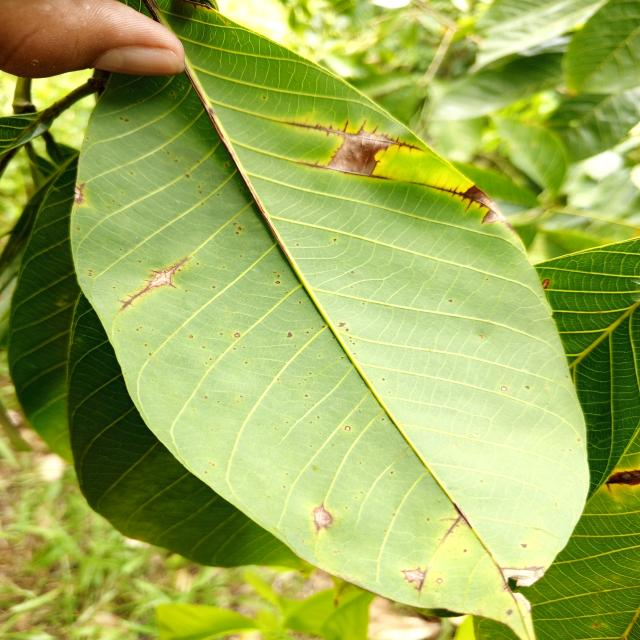Colletotrichum: (234, 332, 240, 338), (437, 578, 442, 584), (345, 426, 351, 431), (501, 386, 507, 391), (275, 281, 280, 284)
Corynespora: (411, 182, 516, 234), (282, 120, 423, 151), (120, 258, 188, 311), (440, 501, 472, 540), (606, 469, 640, 491), (402, 567, 430, 591), (345, 172, 392, 181), (297, 159, 326, 170)
Leaf-Blight: (502, 567, 544, 587), (314, 508, 332, 526)
